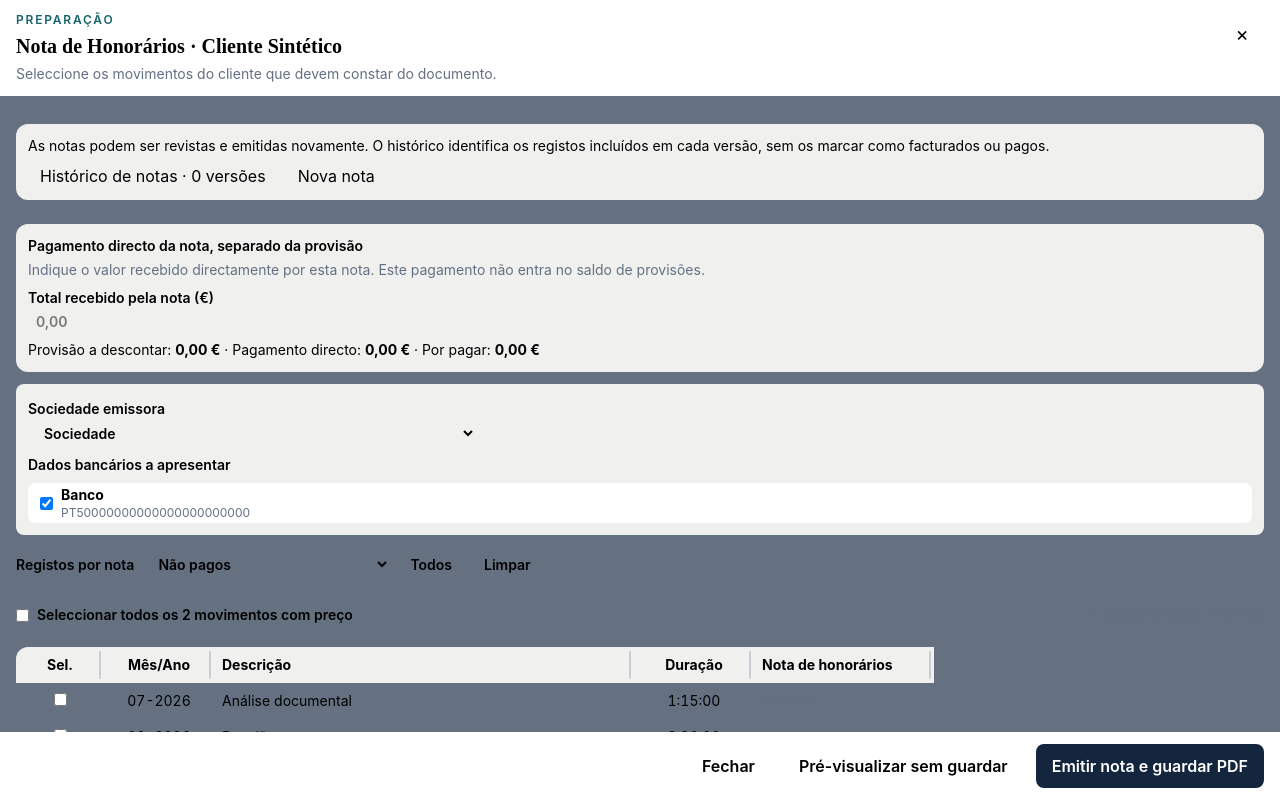
HonorariumNoteModal › mantém a lista e os filtros visíveis após uma recusa do backend
Click the checkbox named "Seleccionar movimento de 2026-07-03".
click(60, 700)  # box [54,693,66,706]
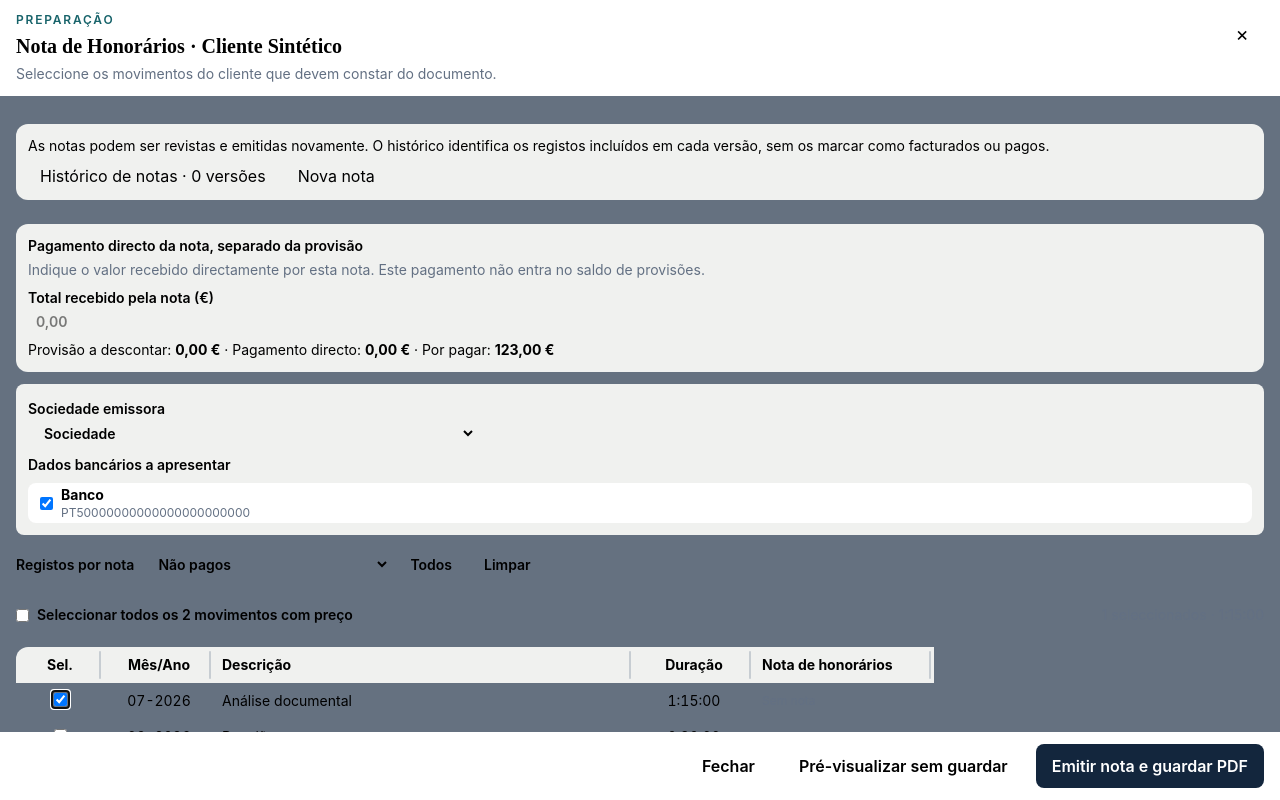
Click the button "Emitir nota e guardar PDF".
click(1150, 766)  # box [1036,744,1264,788]
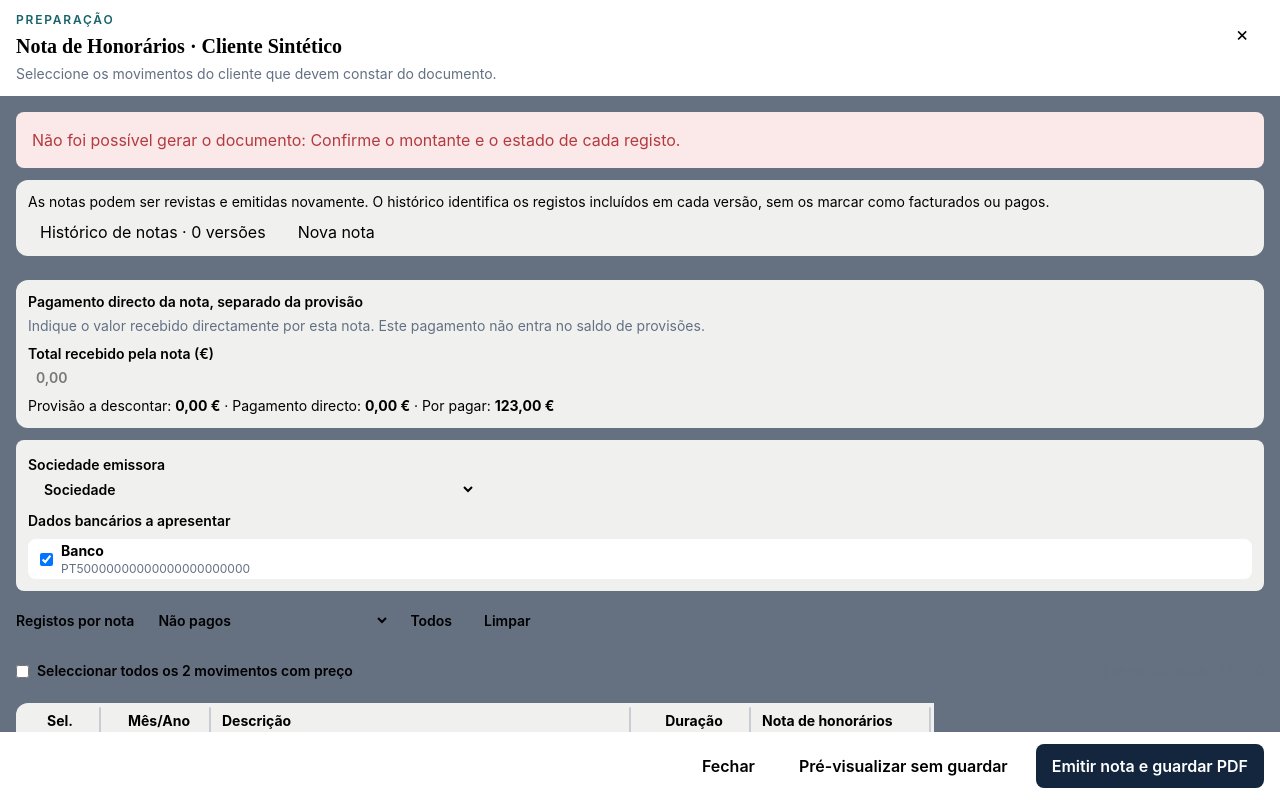
Expected: the dropdown named "Filtrar registos por nota" is shown, [142,611,390,630]
Expected: the text "Não foi possível gerar o documento: Confirme o montante" is shown, [32,130,680,150]
